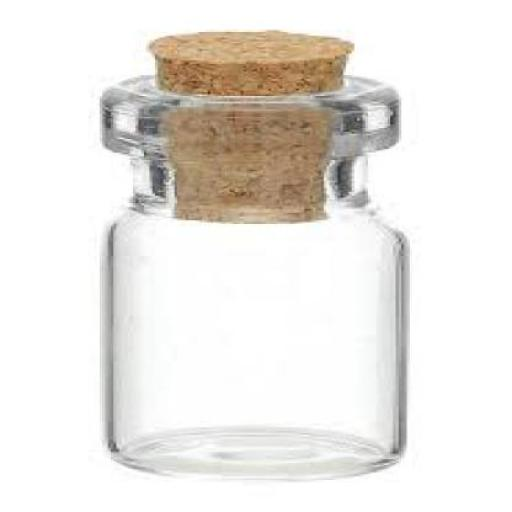glass: (97, 73, 404, 477)
